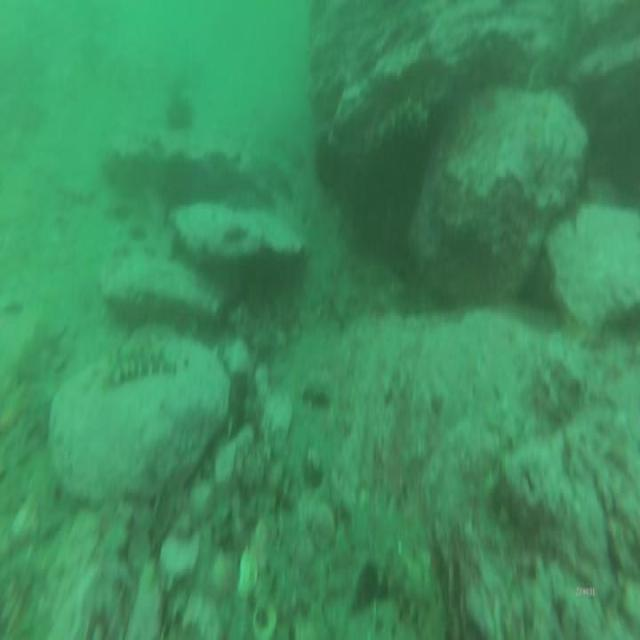echinus: (164, 81, 198, 142)
holothurian: (361, 491, 450, 640), (525, 0, 585, 96), (98, 332, 183, 393), (371, 101, 432, 152)
